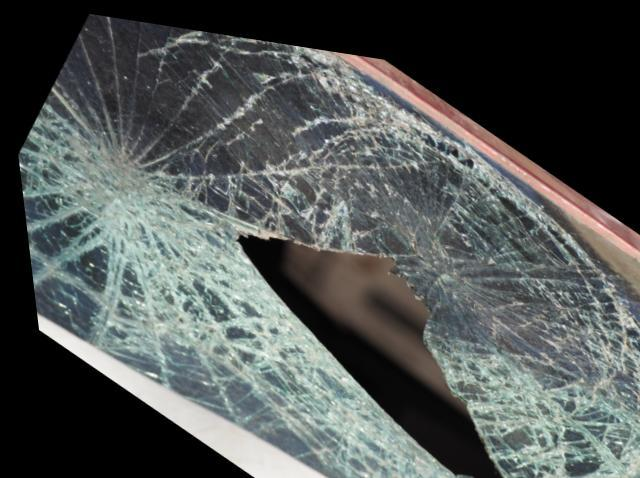glass shatter: (14, 11, 640, 478)
